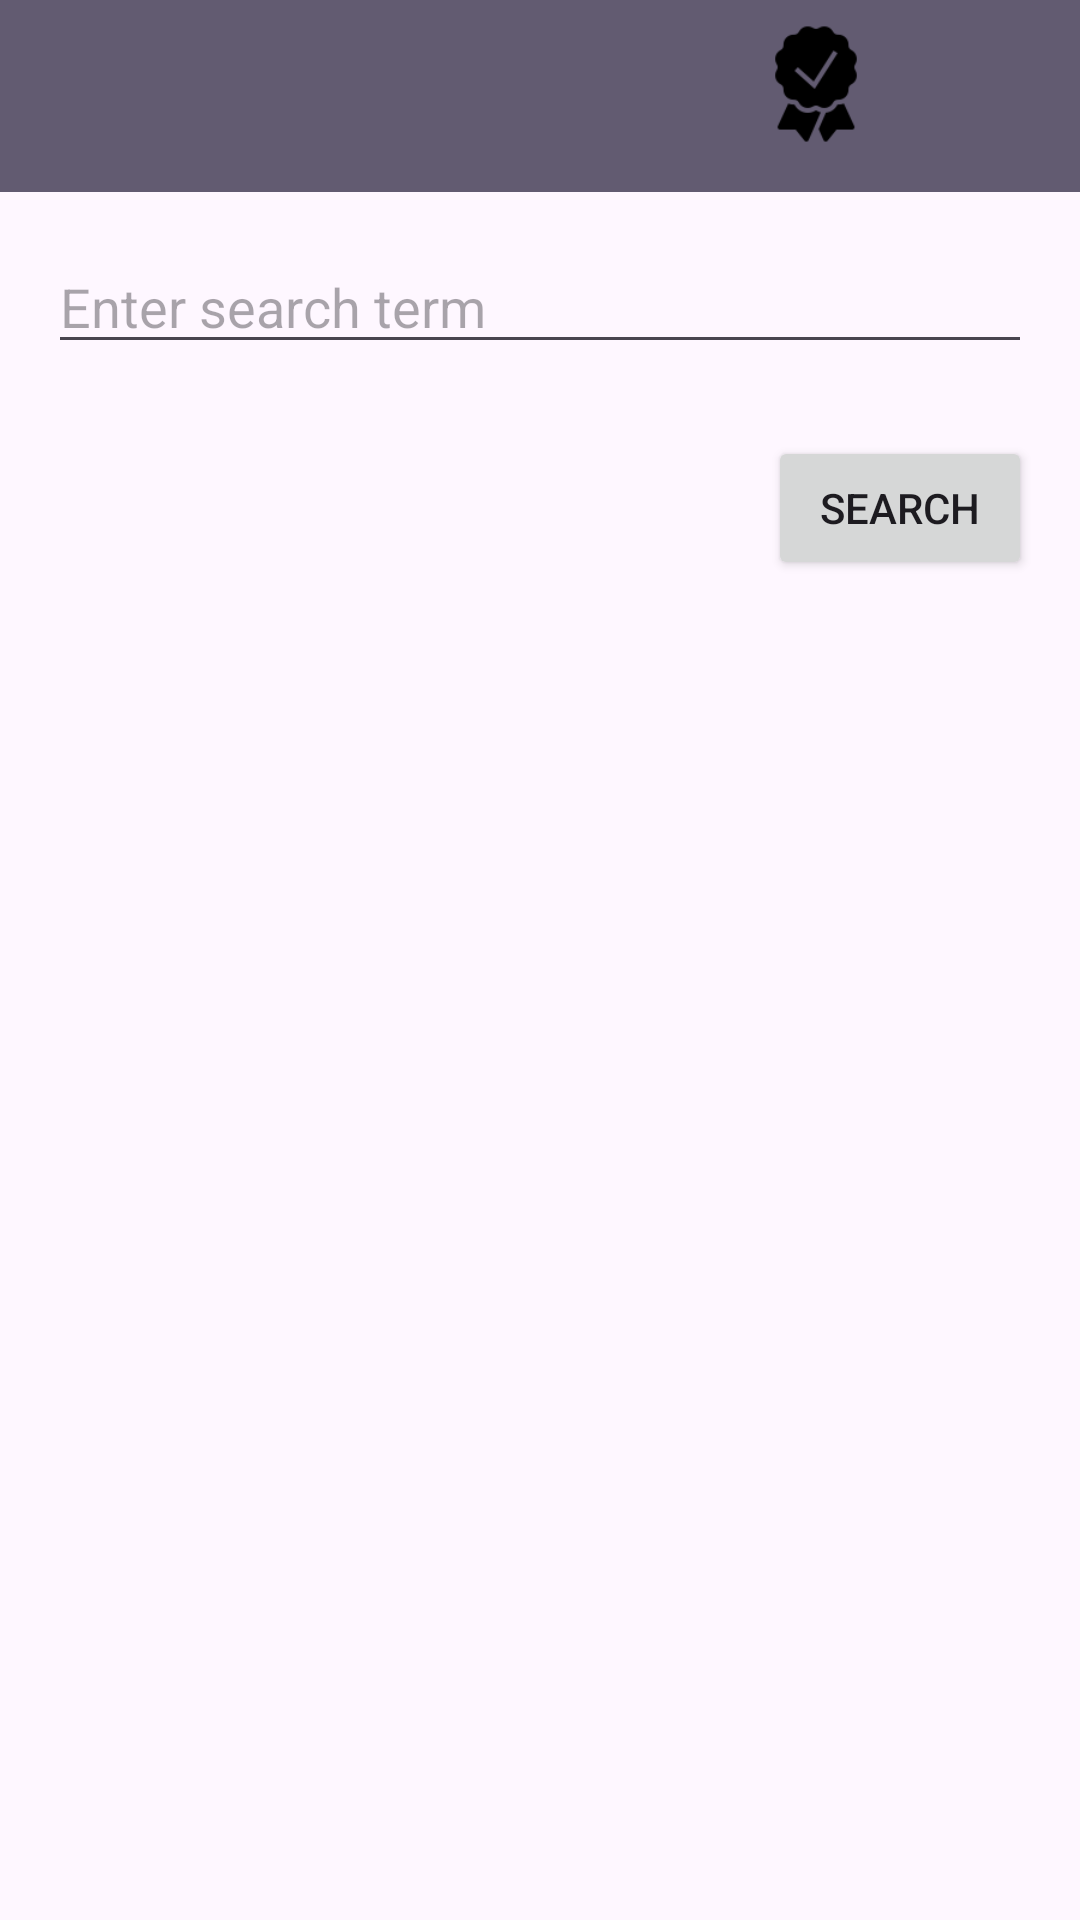

Where icons sit on this 1080 x 1920 app screen, as box(x1, y1, x2, y2):
Quality: box(775, 26, 857, 142)
